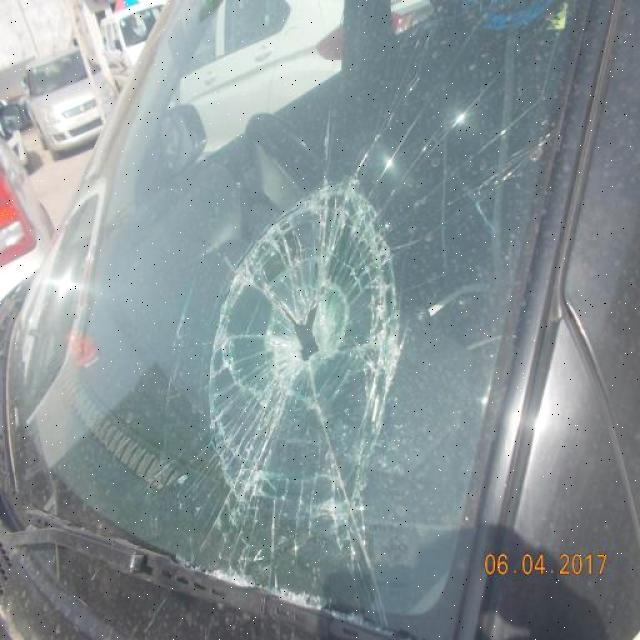car damage: (171, 157, 451, 547)
